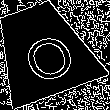O_N: (10, 19, 75, 82)
